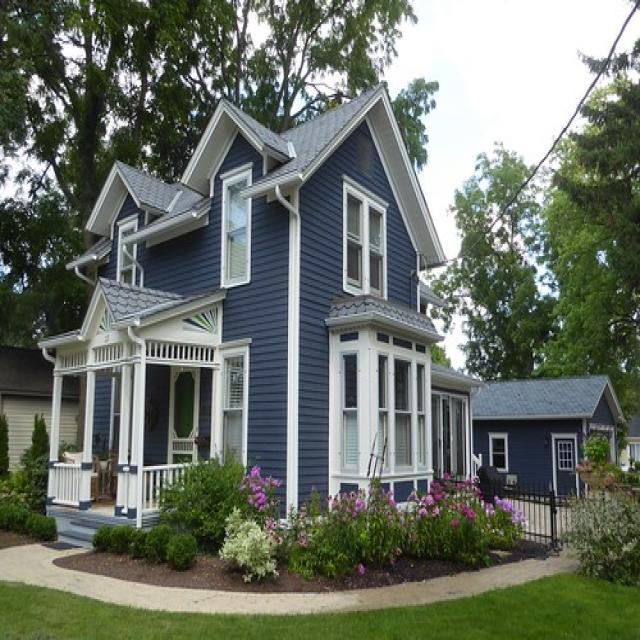building: (36, 75, 484, 553), (464, 374, 624, 563)
